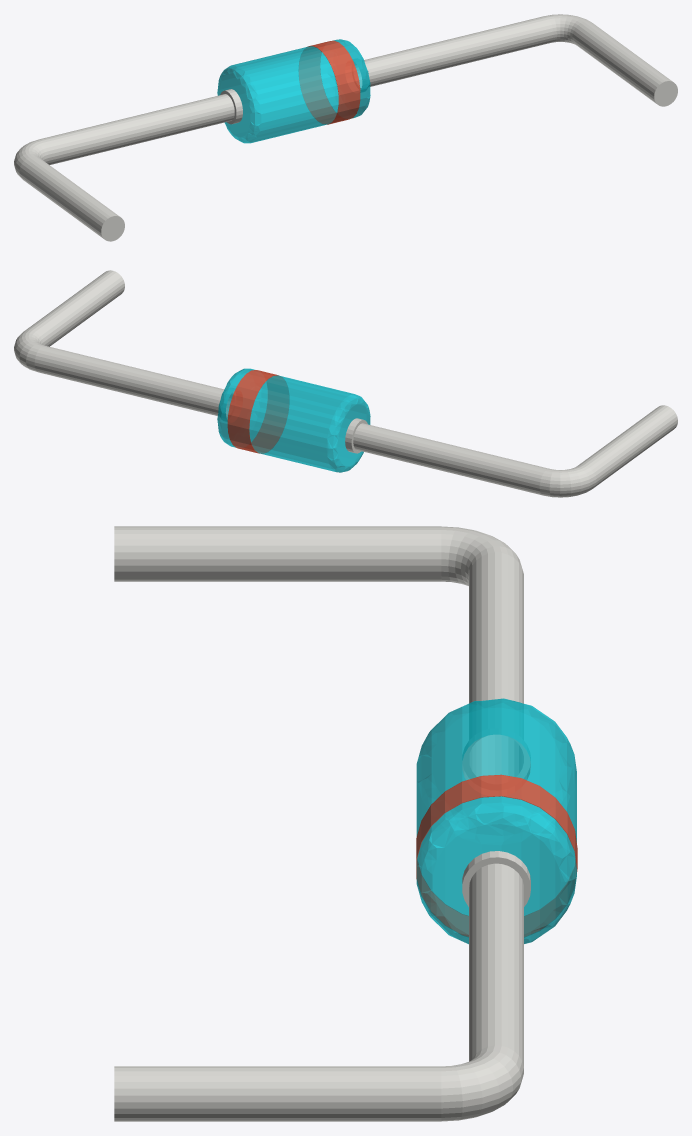
File: D_DO-34_SOD68_P12.70mm_Horizontal.glb
The picture shows the model from 3 angles, top to bottom: view 1: azimuth 30°, elevation 25°; view 2: azimuth 150°, elevation 25°; view 3: azimuth 270°, elevation 25°; orthographic projection. The views are drawn at different scales.
Parts seen in each view (by area): view 1: Shape_IndexedFaceSet.012, Shape_IndexedFaceSet.003, Shape_IndexedFaceSet.017, Shape_IndexedFaceSet.010, Shape_IndexedFaceSet, Shape_IndexedFaceSet.019, Shape_IndexedFaceSet.013, Shape_IndexedFaceSet.008, Shape_IndexedFaceSet.014, Shape_IndexedFaceSet.002, Shape_IndexedFaceSet.007, Shape_IndexedFaceSet.018 (+3 smaller); view 2: Shape_IndexedFaceSet.012, Shape_IndexedFaceSet.017, Shape_IndexedFaceSet.003, Shape_IndexedFaceSet.010, Shape_IndexedFaceSet.019, Shape_IndexedFaceSet, Shape_IndexedFaceSet.018, Shape_IndexedFaceSet.013, Shape_IndexedFaceSet.008, Shape_IndexedFaceSet.014, Shape_IndexedFaceSet.002, Shape_IndexedFaceSet.007 (+1 smaller); view 3: Shape_IndexedFaceSet.012, Shape_IndexedFaceSet, Shape_IndexedFaceSet.019, Shape_IndexedFaceSet.017, Shape_IndexedFaceSet.003, Shape_IndexedFaceSet.014, Shape_IndexedFaceSet.006, Shape_IndexedFaceSet.007, Shape_IndexedFaceSet.013, Shape_IndexedFaceSet.010, Shape_IndexedFaceSet.002, Shape_IndexedFaceSet.018 (+1 smaller).
Boxes of the visible parts, left/top/right/bottom form: Shape_IndexedFaceSet.012: left=221, top=46, right=338, bottom=142; Shape_IndexedFaceSet.003: left=355, top=16, right=553, bottom=87; Shape_IndexedFaceSet.017: left=39, top=94, right=234, bottom=164; Shape_IndexedFaceSet.010: left=299, top=40, right=360, bottom=124; Shape_IndexedFaceSet: left=572, top=21, right=672, bottom=103; Shape_IndexedFaceSet.019: left=19, top=156, right=119, bottom=239; Shape_IndexedFaceSet.013: left=217, top=65, right=261, bottom=143; Shape_IndexedFaceSet.008: left=320, top=39, right=366, bottom=118; Shape_IndexedFaceSet.014: left=218, top=74, right=250, bottom=137; Shape_IndexedFaceSet.002: left=544, top=14, right=590, bottom=44; Shape_IndexedFaceSet.007: left=327, top=39, right=370, bottom=117; Shape_IndexedFaceSet.018: left=14, top=139, right=48, bottom=177; Shape_IndexedFaceSet.012: left=249, top=375, right=366, bottom=472; Shape_IndexedFaceSet.017: left=353, top=423, right=549, bottom=495; Shape_IndexedFaceSet.003: left=34, top=345, right=233, bottom=417; Shape_IndexedFaceSet.010: left=227, top=370, right=288, bottom=453; Shape_IndexedFaceSet.019: left=578, top=405, right=677, bottom=487; Shape_IndexedFaceSet: left=25, top=270, right=124, bottom=346; Shape_IndexedFaceSet.018: left=539, top=465, right=596, bottom=497; Shape_IndexedFaceSet.013: left=326, top=394, right=370, bottom=472; Shape_IndexedFaceSet.008: left=221, top=368, right=267, bottom=447; Shape_IndexedFaceSet.014: left=337, top=404, right=369, bottom=466; Shape_IndexedFaceSet.002: left=14, top=330, right=44, bottom=371; Shape_IndexedFaceSet.007: left=217, top=368, right=260, bottom=446; Shape_IndexedFaceSet.012: left=416, top=700, right=576, bottom=915; Shape_IndexedFaceSet: left=114, top=1066, right=441, bottom=1121; Shape_IndexedFaceSet.019: left=114, top=526, right=441, bottom=581; Shape_IndexedFaceSet.017: left=469, top=552, right=523, bottom=776; Shape_IndexedFaceSet.003: left=469, top=863, right=523, bottom=1066; Shape_IndexedFaceSet.014: left=433, top=708, right=560, bottom=823; Shape_IndexedFaceSet.006: left=432, top=824, right=560, bottom=934; Shape_IndexedFaceSet.007: left=416, top=802, right=576, bottom=944; Shape_IndexedFaceSet.013: left=417, top=698, right=576, bottom=844; Shape_IndexedFaceSet.010: left=416, top=774, right=577, bottom=936; Shape_IndexedFaceSet.002: left=441, top=1045, right=523, bottom=1121; Shape_IndexedFaceSet.018: left=441, top=526, right=521, bottom=585.
Size of the model in its own units: 5.21 by 0.6326 by 1.81.
